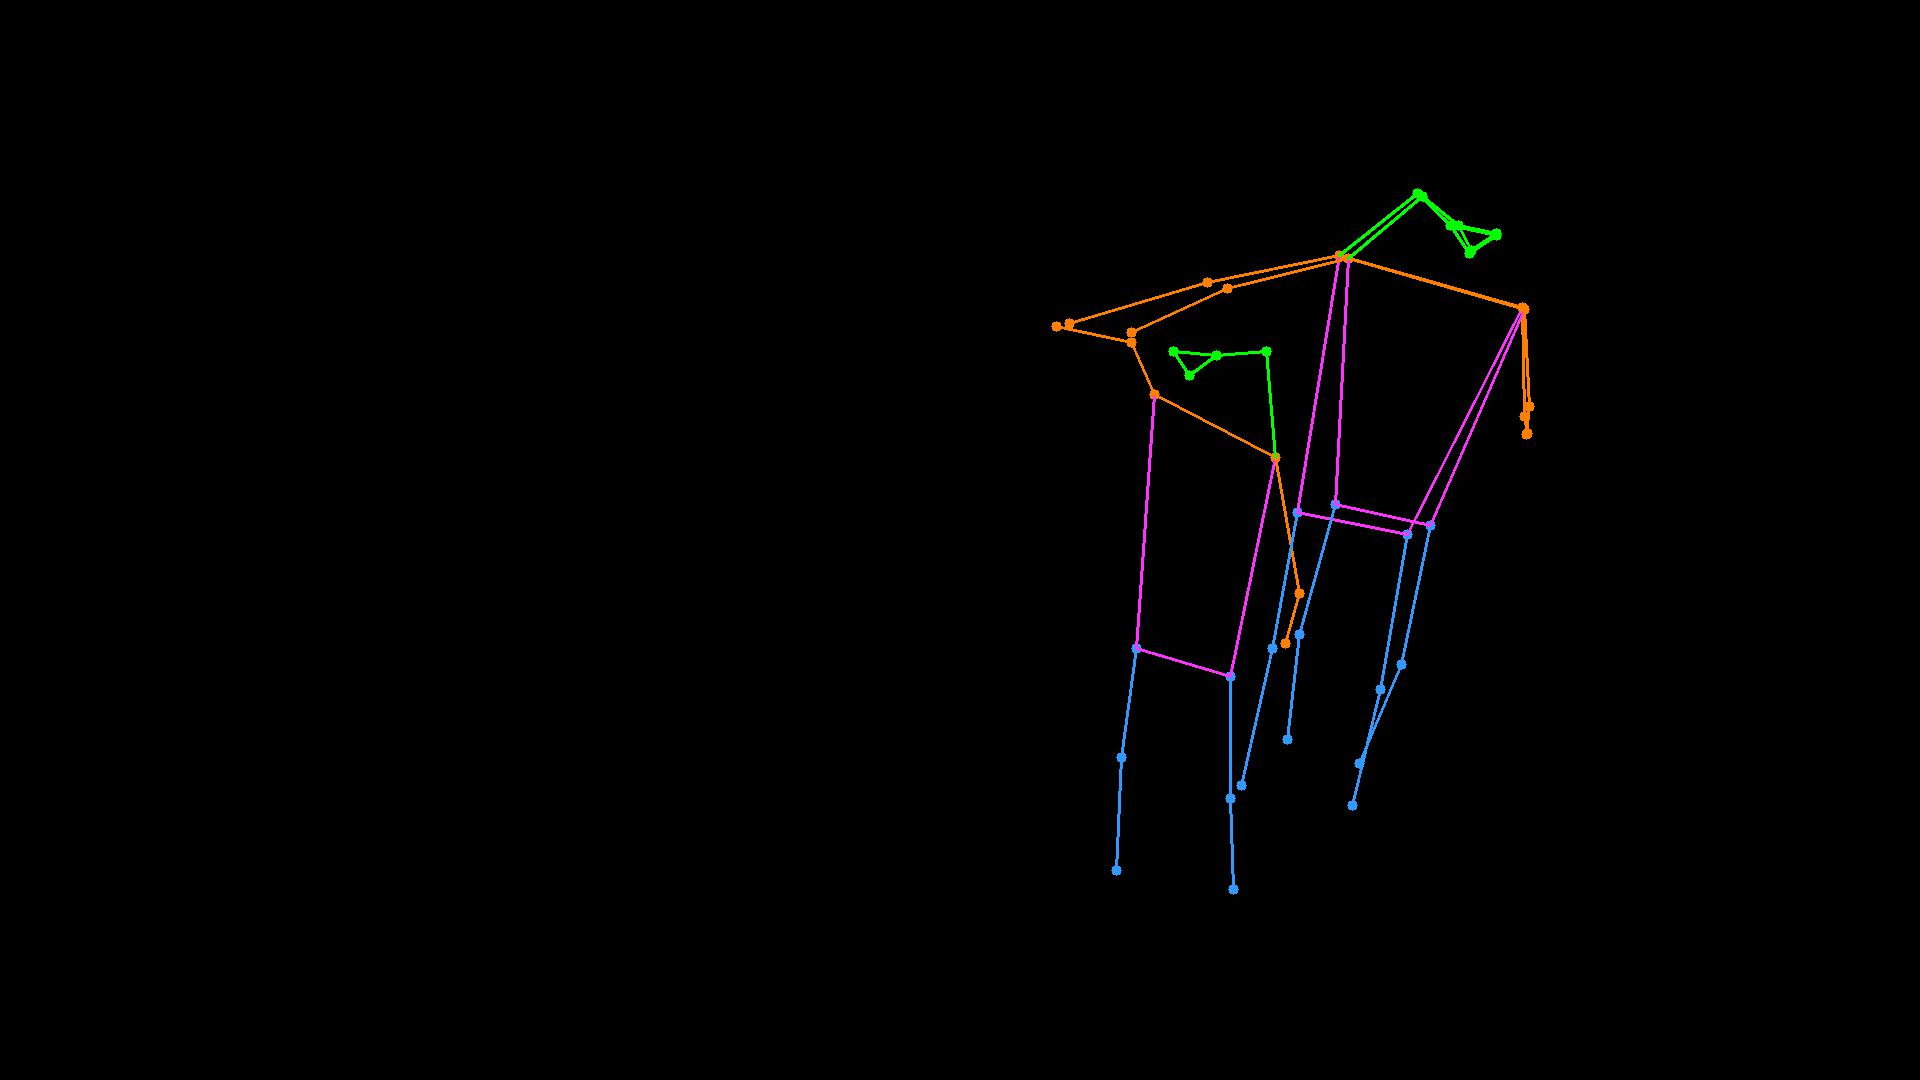normal: (992, 156, 1572, 938)
